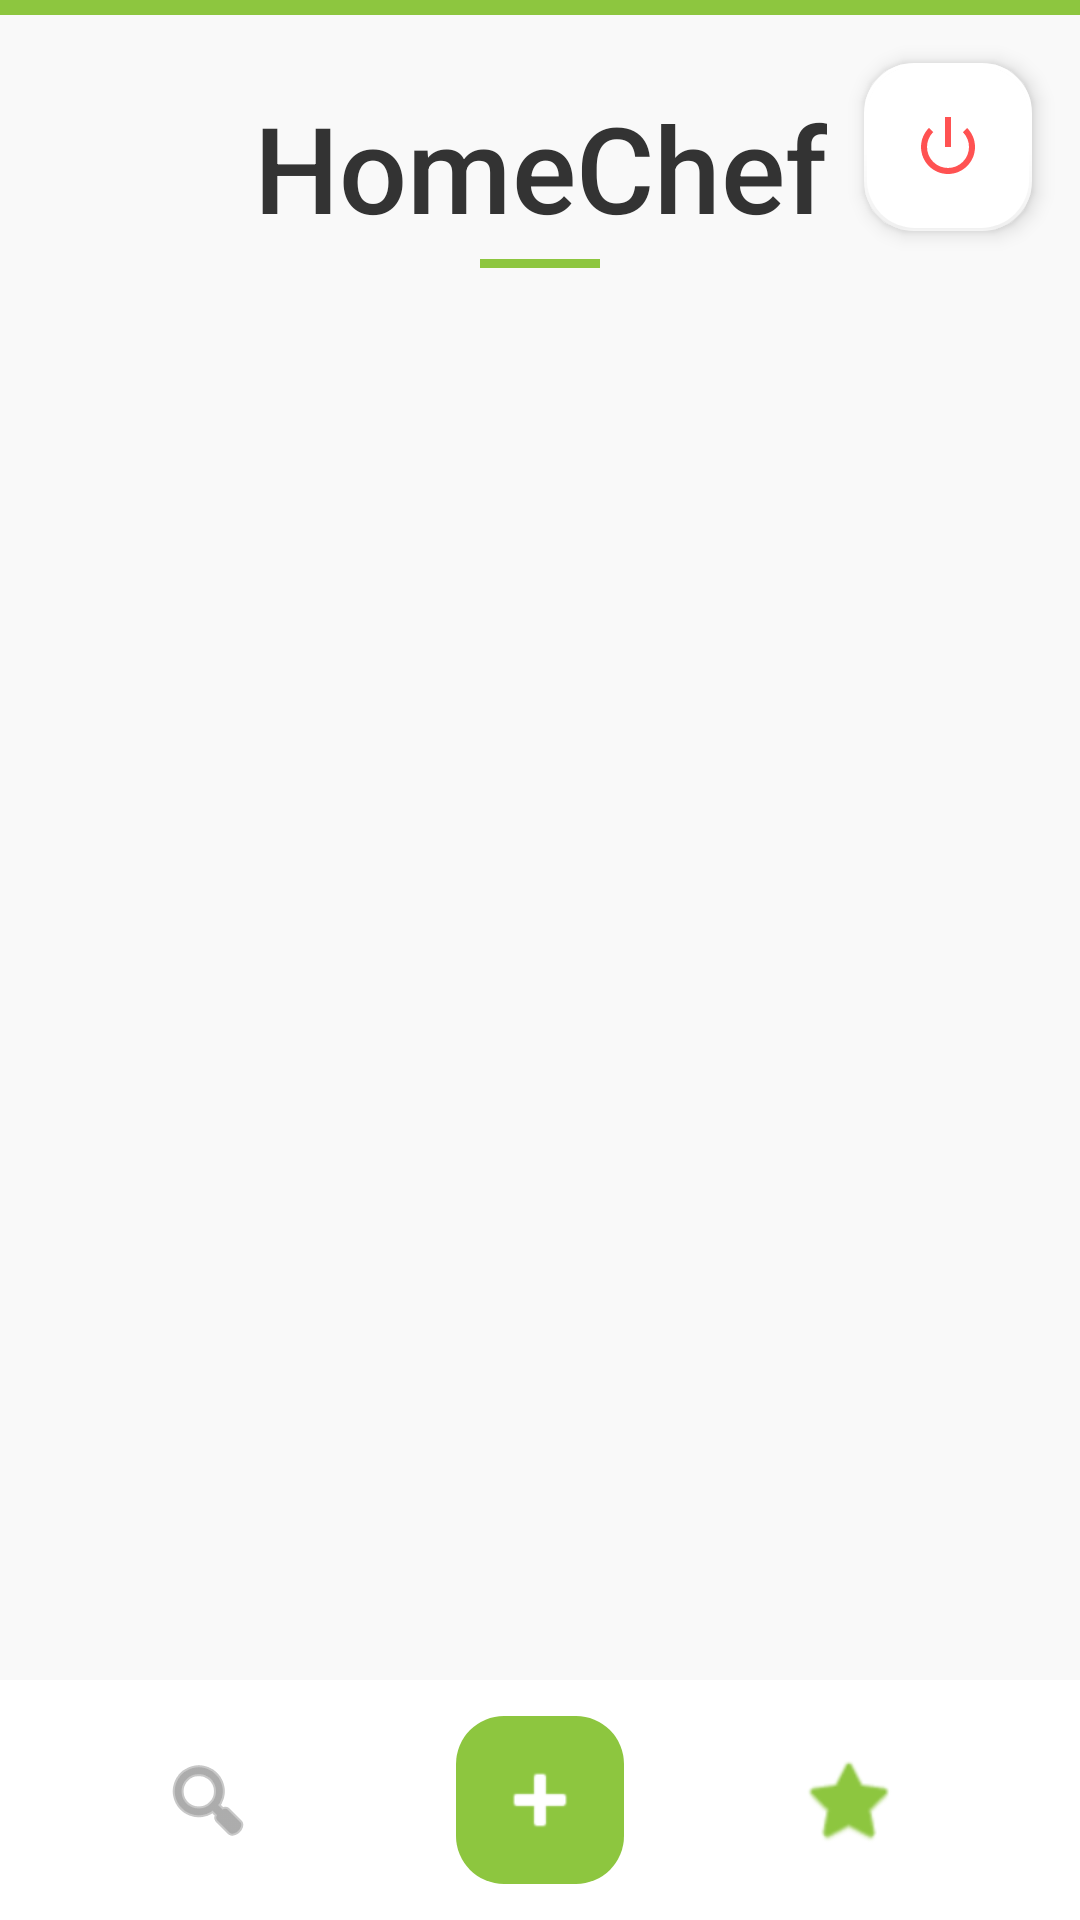

Icons on this 1080px x 1920px Android screen, each with the point to tap as (x=x, y=y):
add: (x=540, y=1818)
Log Out: (x=948, y=147)
search: (x=208, y=1800)
star on: (x=849, y=1801)
